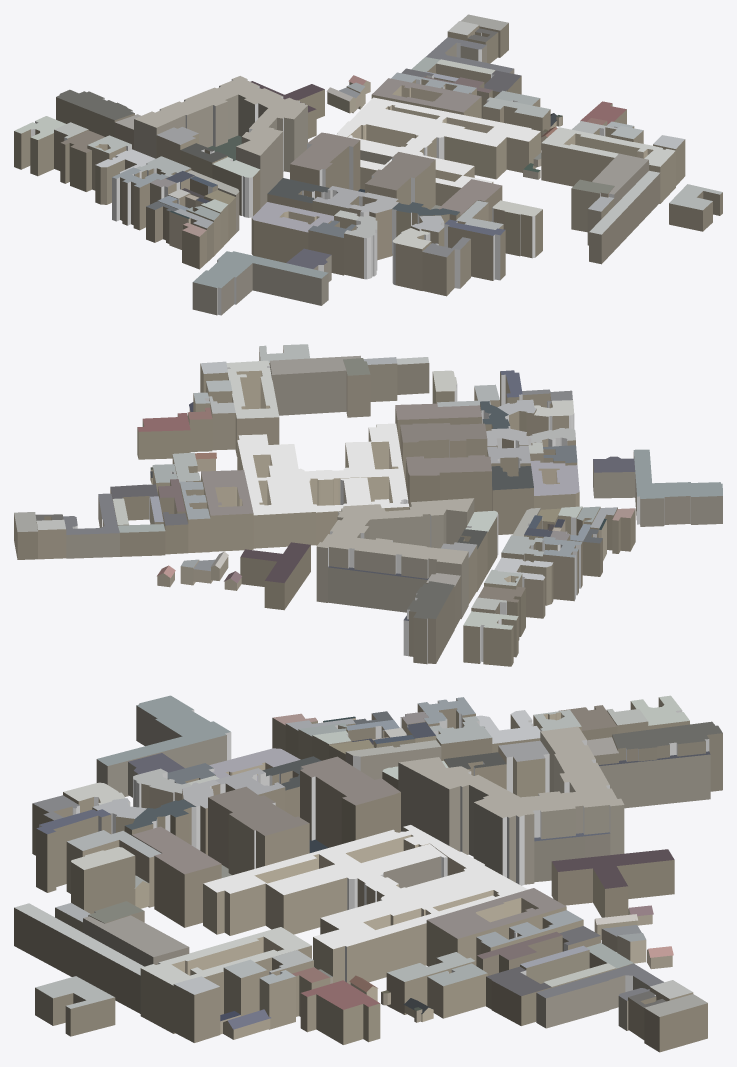
The picture shows the model from 3 angles, top to bottom: view 1: azimuth 30°, elevation 25°; view 2: azimuth 150°, elevation 25°; view 3: azimuth 270°, elevation 25°; orthographic projection. The views are drawn at different scales.
Visible parts, largest first — view 1: tuile; view 2: tuile; view 3: tuile.
Boxes of the visible parts, x1,y1,x2,y2 form: tuile: (14,14,722,315); tuile: (14,344,722,666); tuile: (14,695,722,1052).
Size of the model in its own units: 280 by 36.1 by 263.
